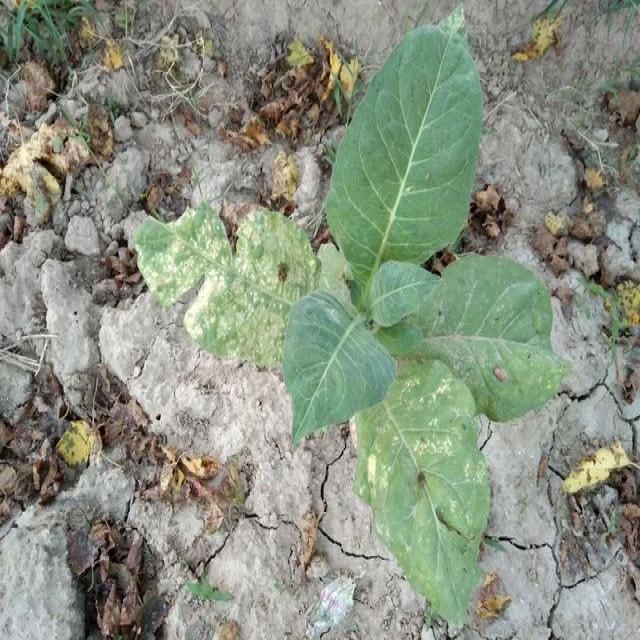crop: (122, 37, 555, 616)
